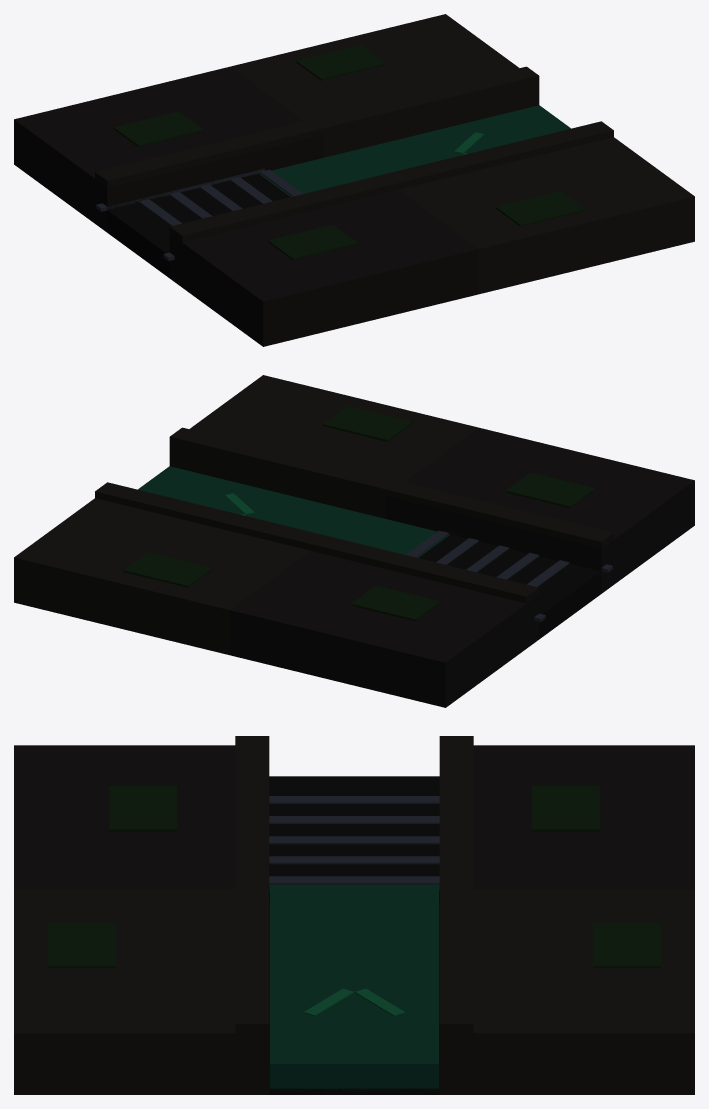
File: SM_Hide_Channel_Drain_2x2.glb
3 views of the same model, one above another, from view 1: azimuth 30°, elevation 25°; view 2: azimuth 150°, elevation 25°; view 3: azimuth 270°, elevation 25° (orthographic). The views are drawn at different scales.
Visible parts, largest first — view 1: SM_Hide_Channel_Drain_2x2-col; view 2: SM_Hide_Channel_Drain_2x2-col; view 3: SM_Hide_Channel_Drain_2x2-col.
Part boxes in pixels (box(x1,y1,x2,y2)): SM_Hide_Channel_Drain_2x2-col: box(14, 14, 694, 346); SM_Hide_Channel_Drain_2x2-col: box(14, 375, 694, 707); SM_Hide_Channel_Drain_2x2-col: box(14, 736, 694, 1094).
Bounding box in the file's own units: 2.03 × 0.23 × 2.
